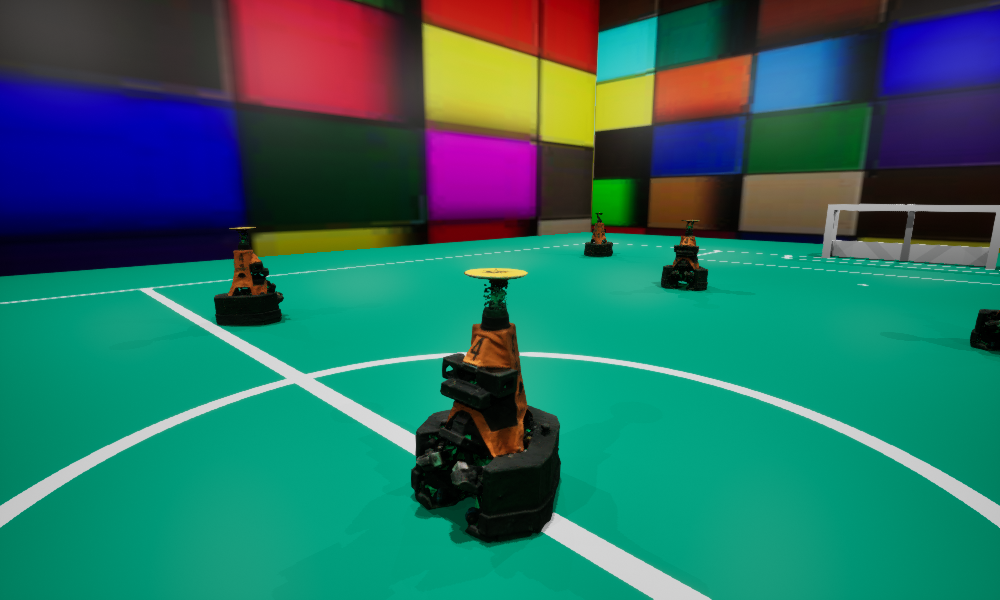0 orange robot TechUnited: (411, 268, 560, 541), (214, 227, 283, 325), (661, 220, 707, 289), (584, 212, 612, 256), (970, 309, 999, 350)
